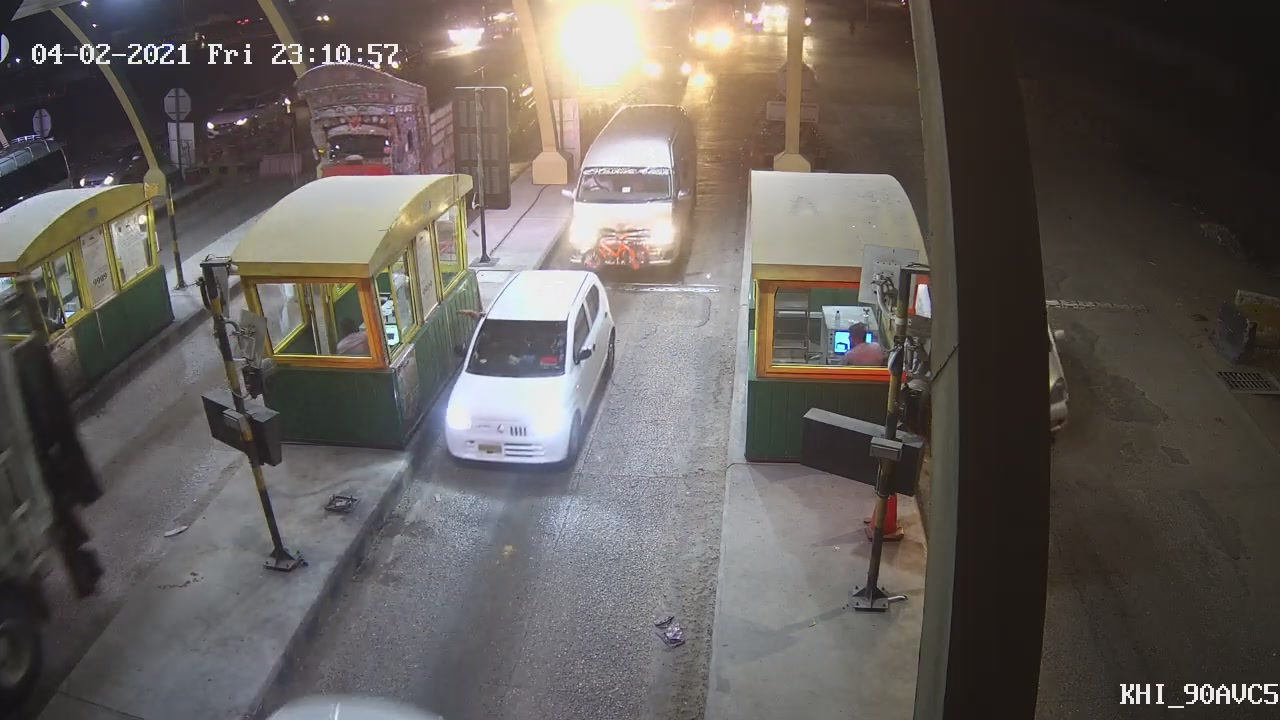F1: (440, 267, 617, 468)
F2: (558, 101, 706, 268)
